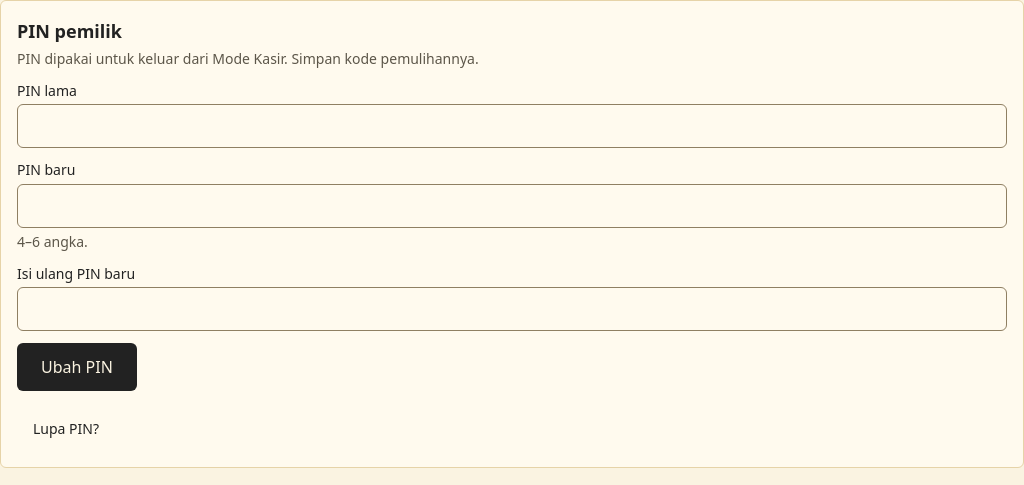
Test: Lupa PIN? di Pengaturan › mengganti form Ubah PIN dengan form pulihkan; Batal mengembalikannya
Click the button "Lupa PIN?": coordinates (66, 429) [17,407,115,451]
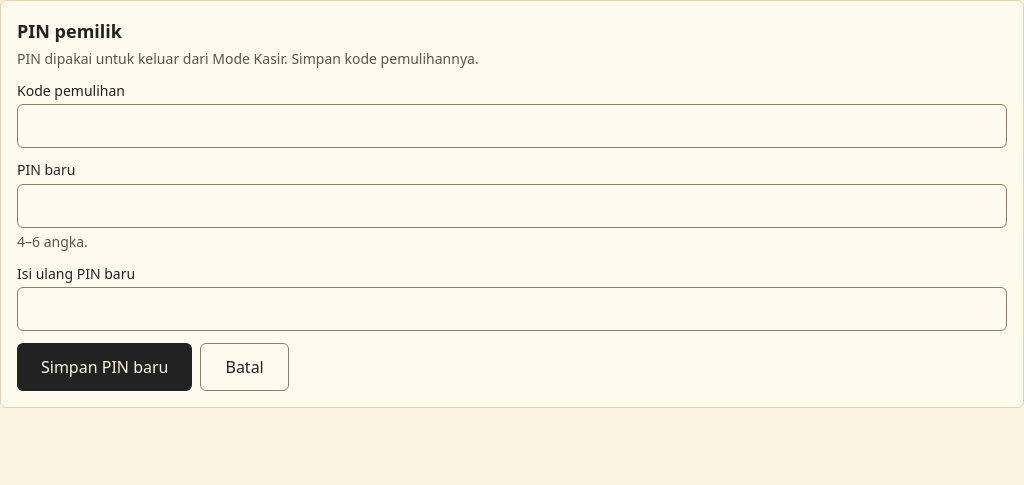
Expected: the field labelled "Kode pemulihan" is shown, [17,104,1007,148]
Result: the button "Simpan PIN baru" is shown at [17,343,192,391]
Result: the label labelled "PIN lama" is gone
Click the button "Batal": coordinates (245, 367) [200,343,289,391]
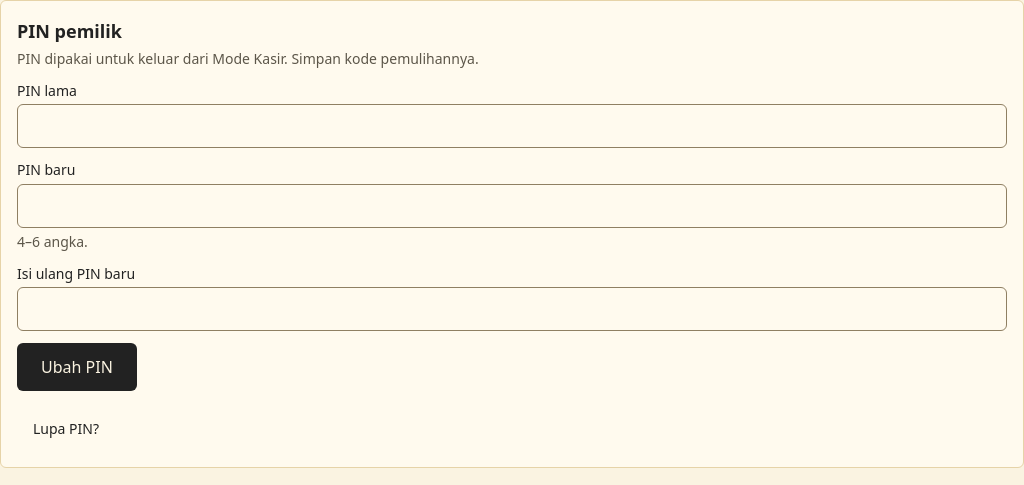
Expected: the password field labelled "PIN lama" is shown, [17,104,1007,148]
Result: the button "Lupa PIN?" is shown at [17,407,115,451]
